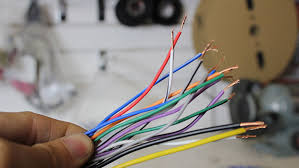more_tube: (104, 53, 215, 160)
